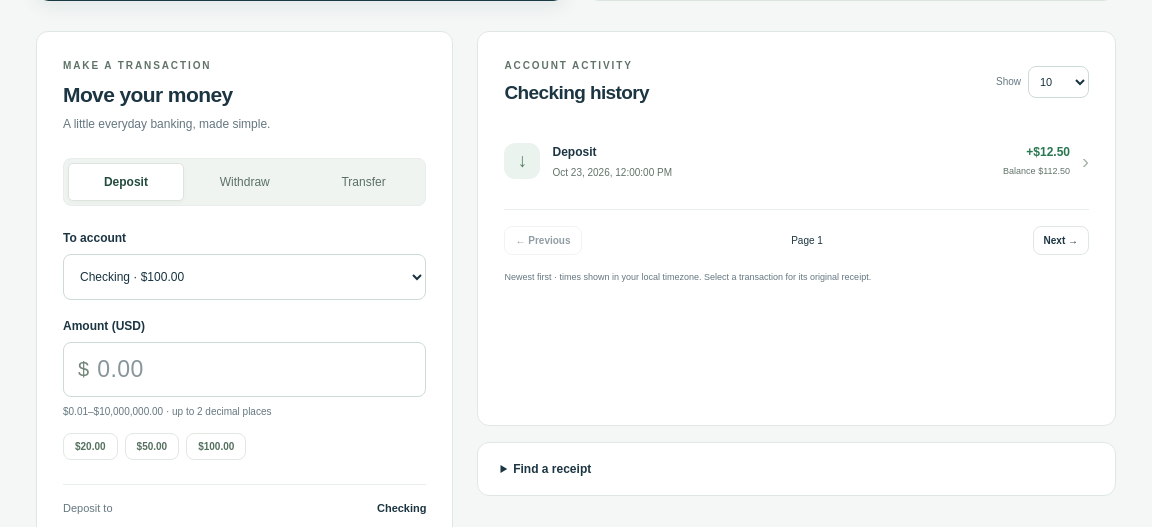
executes withdrawal with the correct account fields
(page scrolled)
Click the tab "Withdraw".
click(245, 182)  # box top-left (187, 163), bottom-right (303, 201)
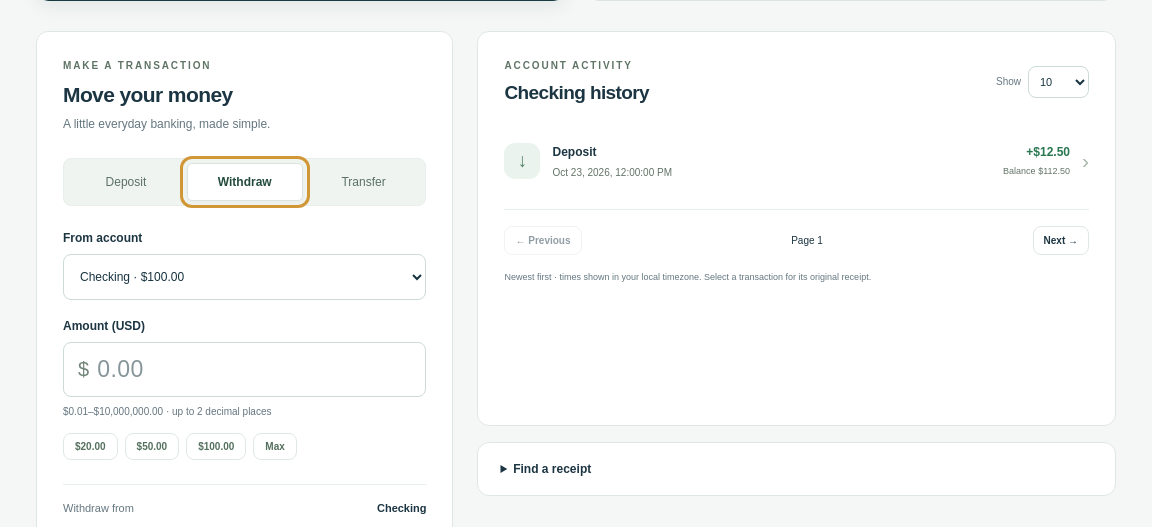
Type "10.01" into the field labelled "Amount (USD)".
click(261, 369); type("10.01")  # box top-left (97, 343), bottom-right (426, 396)
(page scrolled)
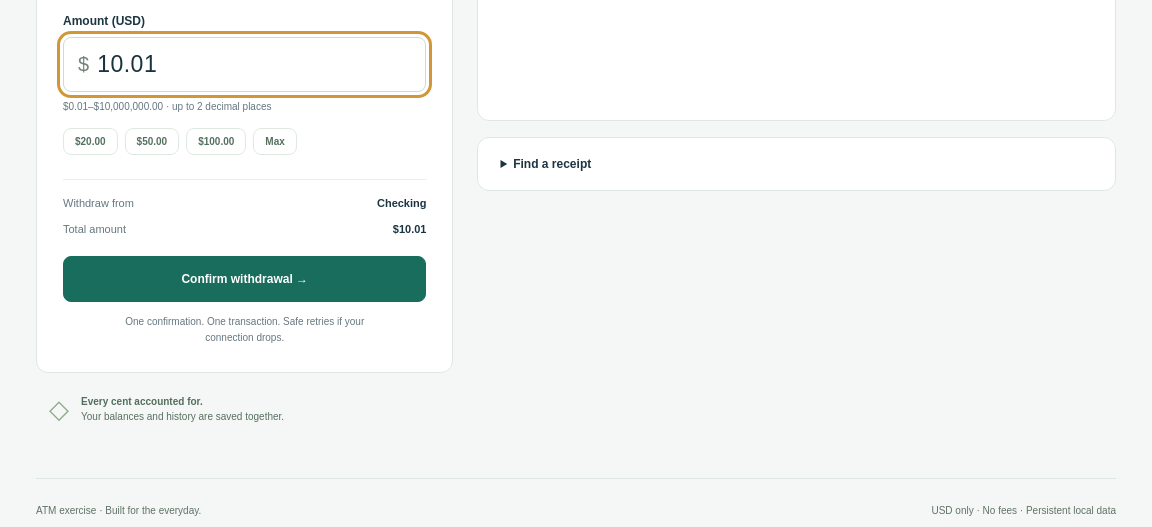
Click the button "Confirm withdrawal →".
click(245, 279)  # box top-left (63, 256), bottom-right (426, 302)
(page scrolled)
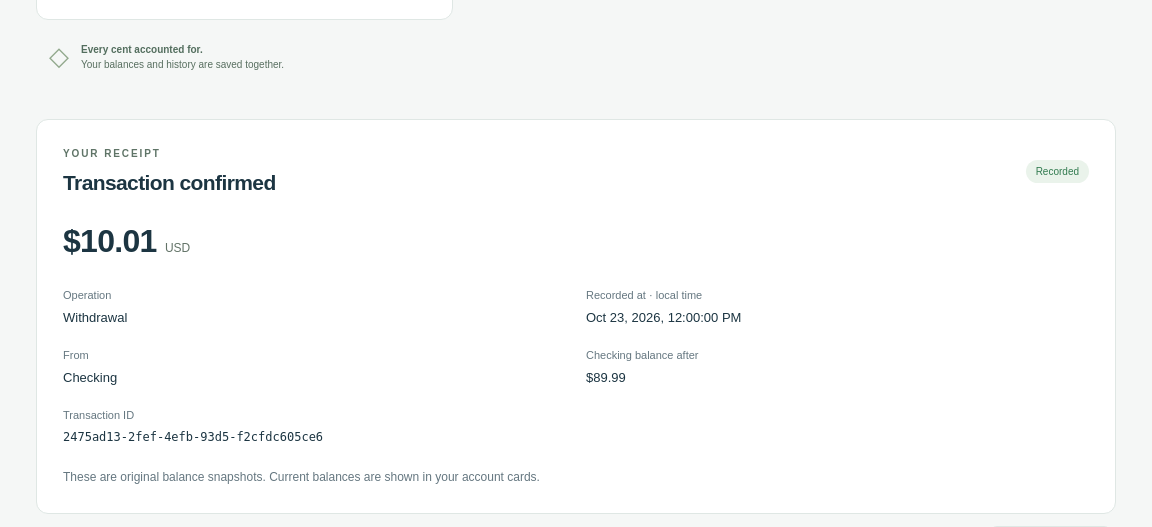
Expected: the heading "Transaction confirmed" is shown, top-left (63, 169), bottom-right (276, 196)
